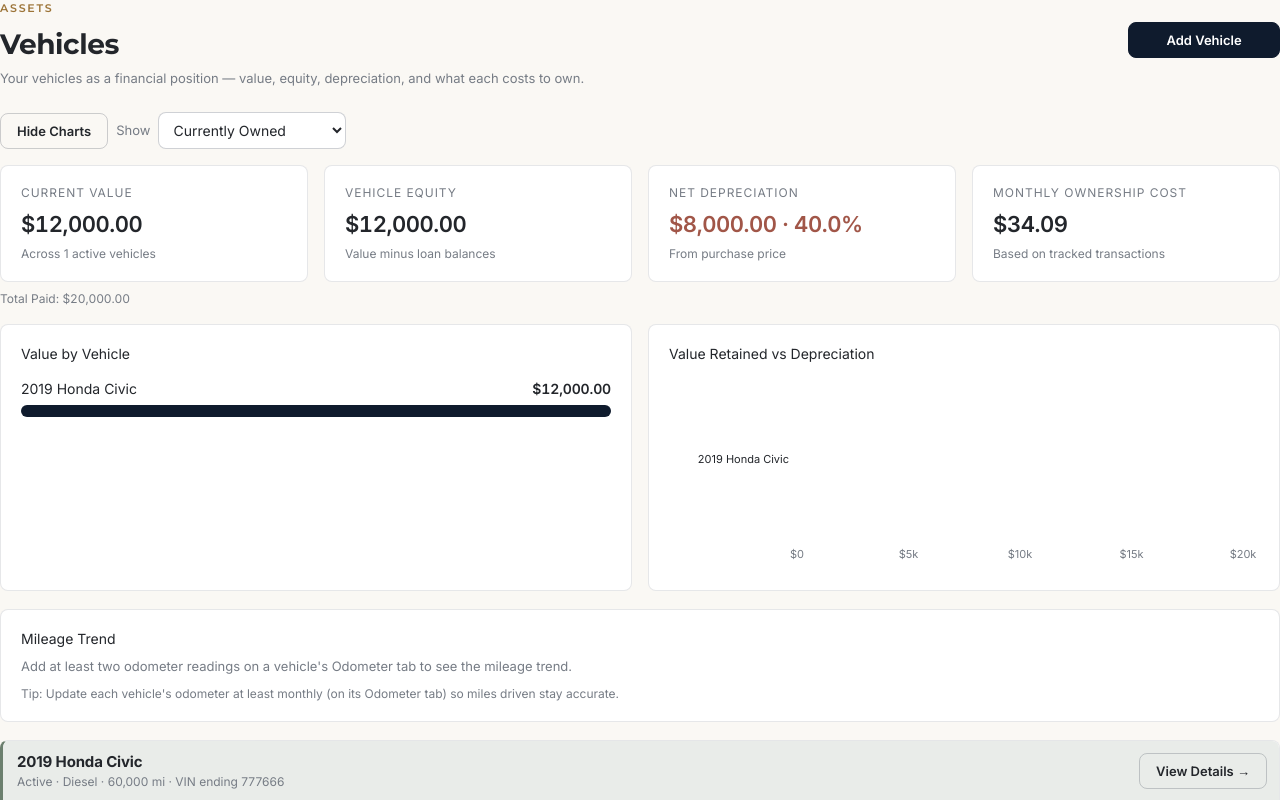
Test case: Vehicles page › shows the no-match message when a filter excludes everything
Expected: the text "2019 Honda Civic" below "Value by Vehicle" is shown, left=21, top=380, right=137, bottom=397
Select "Financed" in the dropdown at (252, 130), box left=158, top=112, right=346, bottom=149
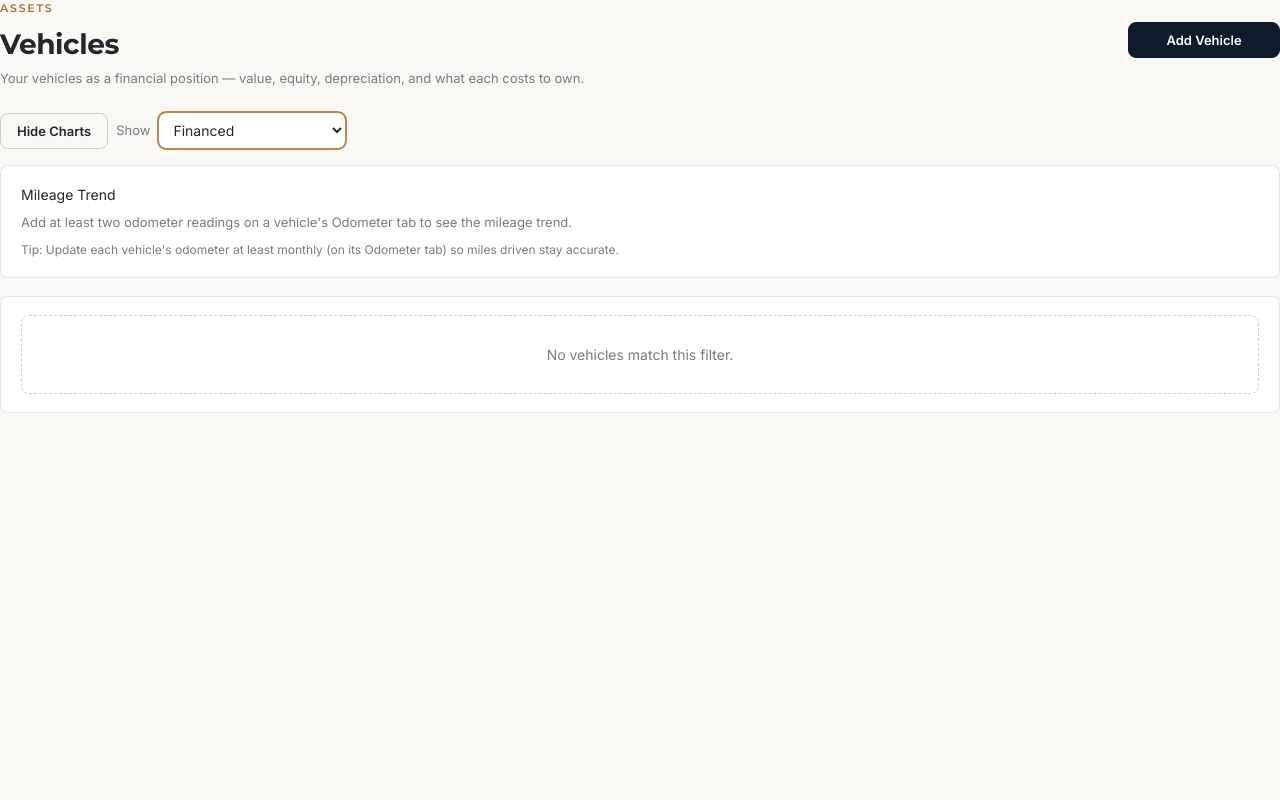
Expected: the text "No vehicles match this filter." is shown, left=21, top=314, right=1259, bottom=394
